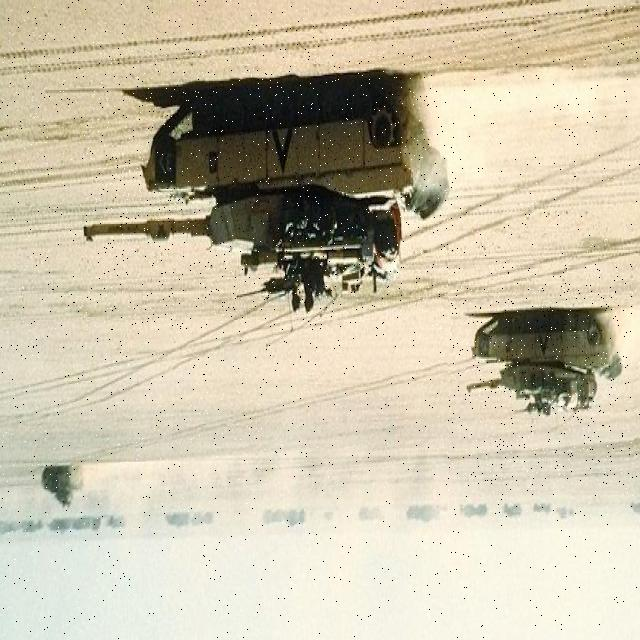MIL_MBT: (98, 48, 458, 330), (448, 267, 633, 493)
